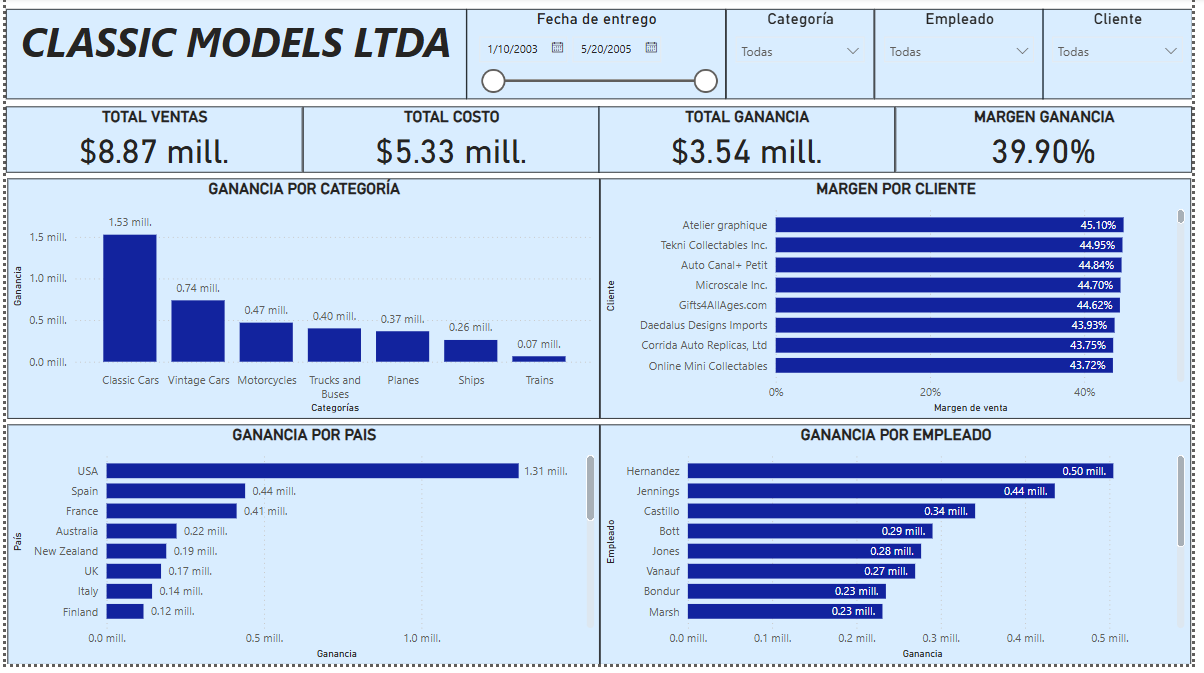

Layout of this report page (visuals, bound fields, positions):
{"tool":"powerbi","page":{"name":"Page 1","canvas":[1280,720],"ordinal":0},"visuals":[{"type":"card","title":"TOTAL VENTAS","fields":{"Values":["ventas.ventas_efectuadas"]},"box":[0,118.5,319.8,71.2],"z":0,"group":"g1"},{"type":"group","id":"g1","title":"Group 1","box":[0,118.5,1279.2,71.2],"z":4},{"type":"clusteredColumnChart","title":"GANANCIA POR CATEGORÍA","fields":{"Category":["ventas.categoria"],"Y":["Sum(ventas.monto_ganancia)"]},"box":[1.6,195.9,639.6,259.1],"z":5},{"type":"clusteredBarChart","title":"GANANCIA POR PAIS","fields":{"Y":["Sum(ventas.monto_ganancia)"],"Category":["ventas.pais"]},"box":[1.6,461.5,639.6,259.1],"z":6},{"type":"clusteredBarChart","title":"MARGEN POR CLIENTE","fields":{"Y":["ventas.margen_venta"],"Category":["ventas.nombre_cliente"]},"box":[641.2,195.9,638,259.1],"z":7},{"type":"clusteredBarChart","title":"GANANCIA POR EMPLEADO","fields":{"Y":["Sum(ventas.monto_ganancia)"],"Category":["ventas.apellido_empleado"]},"box":[641.2,461.5,638,259.1],"z":8},{"type":"textbox","box":[0,13,497.1,97.2],"z":9},{"type":"slicer","title":"Fecha de entrego","fields":{"Values":["ventas.fecha_entregado"]},"box":[497.1,13,280.1,97.2],"z":10},{"type":"slicer","title":"Categoría","fields":{"Values":["ventas.categoria"]},"box":[777.2,13,160.3,97.2],"z":11},{"type":"slicer","title":"Empleado","fields":{"Values":["ventas.apellido_empleado"]},"box":[937.5,13,183,97.2],"z":12},{"type":"slicer","title":"Cliente","fields":{"Values":["ventas.nombre_cliente"]},"box":[1118.9,13,161.9,97.2],"z":13},{"type":"card","title":"TOTAL COSTO","fields":{"Values":["ventas.total_costo"]},"box":[319.8,118.5,319.8,71.2],"z":1000,"group":"g1"},{"type":"card","title":"TOTAL GANANCIA","fields":{"Values":["ventas.total_ganancia"]},"box":[639.6,118.5,319.8,71.2],"z":2000,"group":"g1"},{"type":"card","title":"MARGEN GANANCIA","fields":{"Values":["ventas.margen_venta"]},"box":[959.4,118.5,319.8,71.2],"z":3000,"group":"g1"}]}

Visuals, with their boxes in screenshot pixels (x1, y1, x2, y2), scaled from the page's 1280x720 canvas onto the 1204x673 screenshot:
"TOTAL VENTAS" card: pyautogui.locateOnScreen(0, 111, 301, 177)
"Group 1" group: pyautogui.locateOnScreen(0, 111, 1203, 177)
"GANANCIA POR CATEGORÍA" clusteredColumnChart: pyautogui.locateOnScreen(2, 183, 603, 425)
"GANANCIA POR PAIS" clusteredBarChart: pyautogui.locateOnScreen(2, 431, 603, 672)
"MARGEN POR CLIENTE" clusteredBarChart: pyautogui.locateOnScreen(603, 183, 1203, 425)
"GANANCIA POR EMPLEADO" clusteredBarChart: pyautogui.locateOnScreen(603, 431, 1203, 672)
textbox: pyautogui.locateOnScreen(0, 12, 468, 103)
"Fecha de entrego" slicer: pyautogui.locateOnScreen(468, 12, 731, 103)
"Categoría" slicer: pyautogui.locateOnScreen(731, 12, 882, 103)
"Empleado" slicer: pyautogui.locateOnScreen(882, 12, 1054, 103)
"Cliente" slicer: pyautogui.locateOnScreen(1052, 12, 1203, 103)
"TOTAL COSTO" card: pyautogui.locateOnScreen(301, 111, 602, 177)
"TOTAL GANANCIA" card: pyautogui.locateOnScreen(602, 111, 902, 177)
"MARGEN GANANCIA" card: pyautogui.locateOnScreen(902, 111, 1203, 177)
